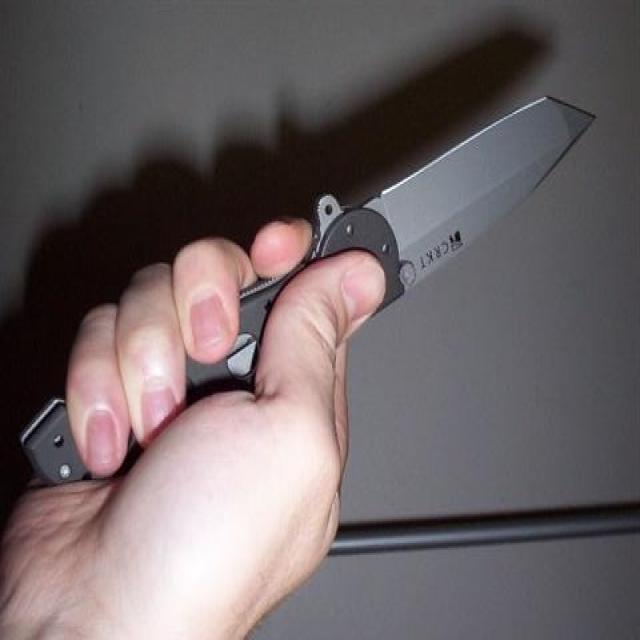knife: (20, 89, 601, 503)
